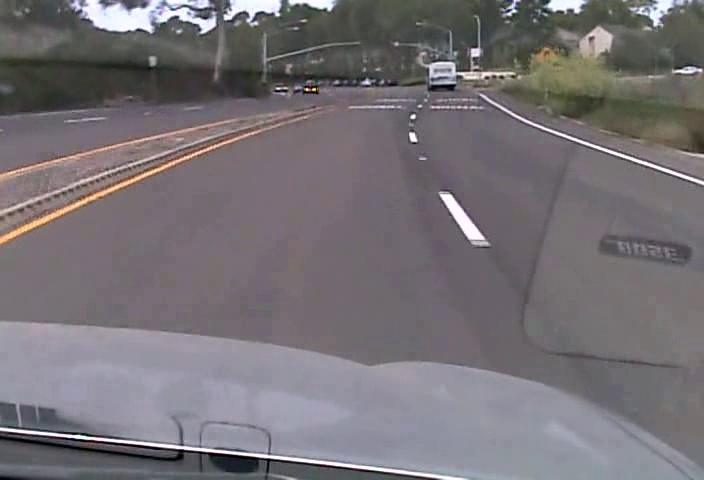signalAhead: (531, 46, 558, 69)
